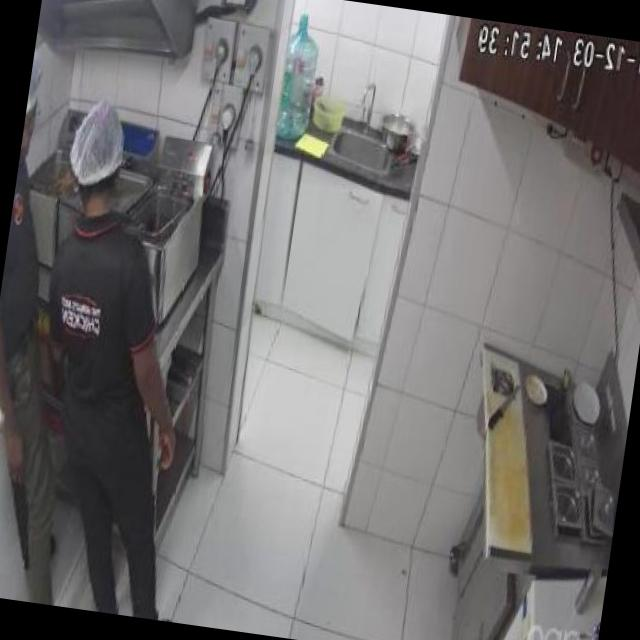hairnet: (69, 102, 128, 185), (26, 52, 48, 118)
